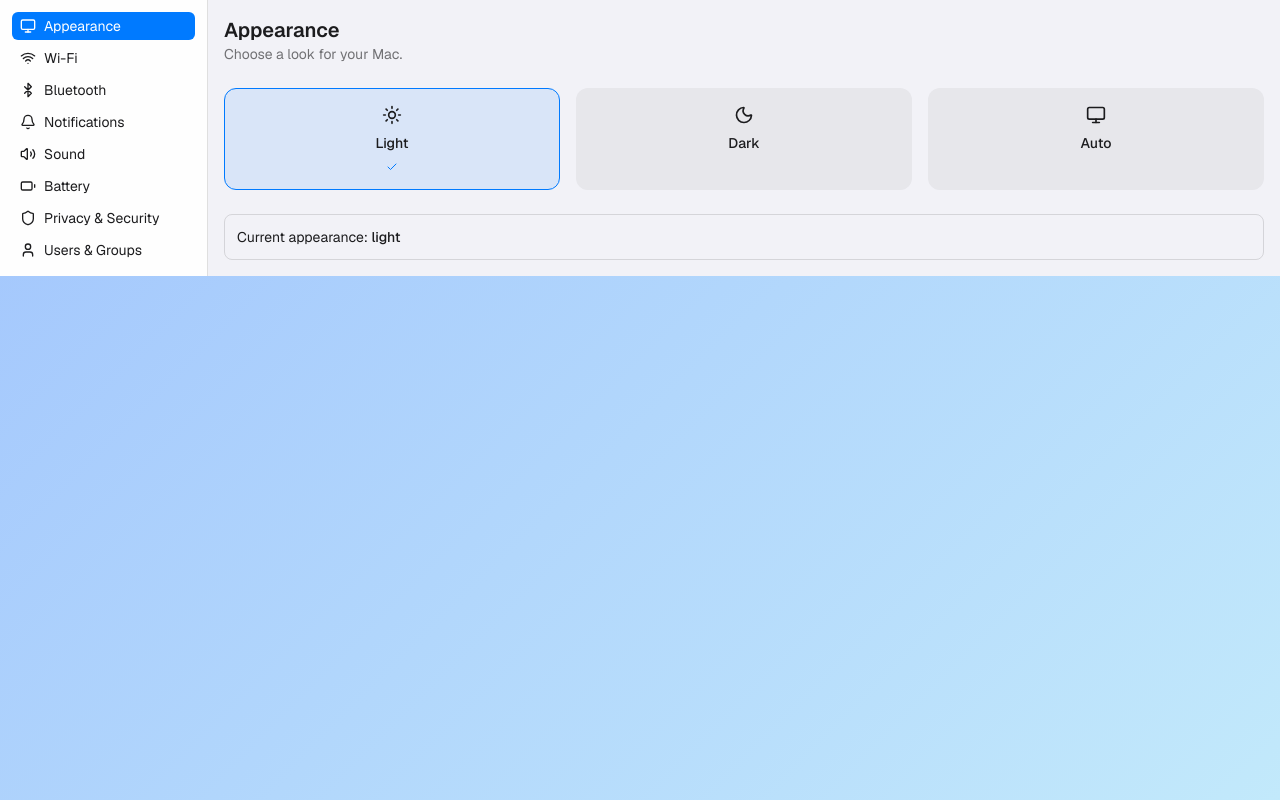
Scenario: Settings › toggles Wi-Fi and shows the network list
The image size is (1280, 800).
Click the button with test id "settings-pane-wifi": (104, 58) [12,44,195,72]
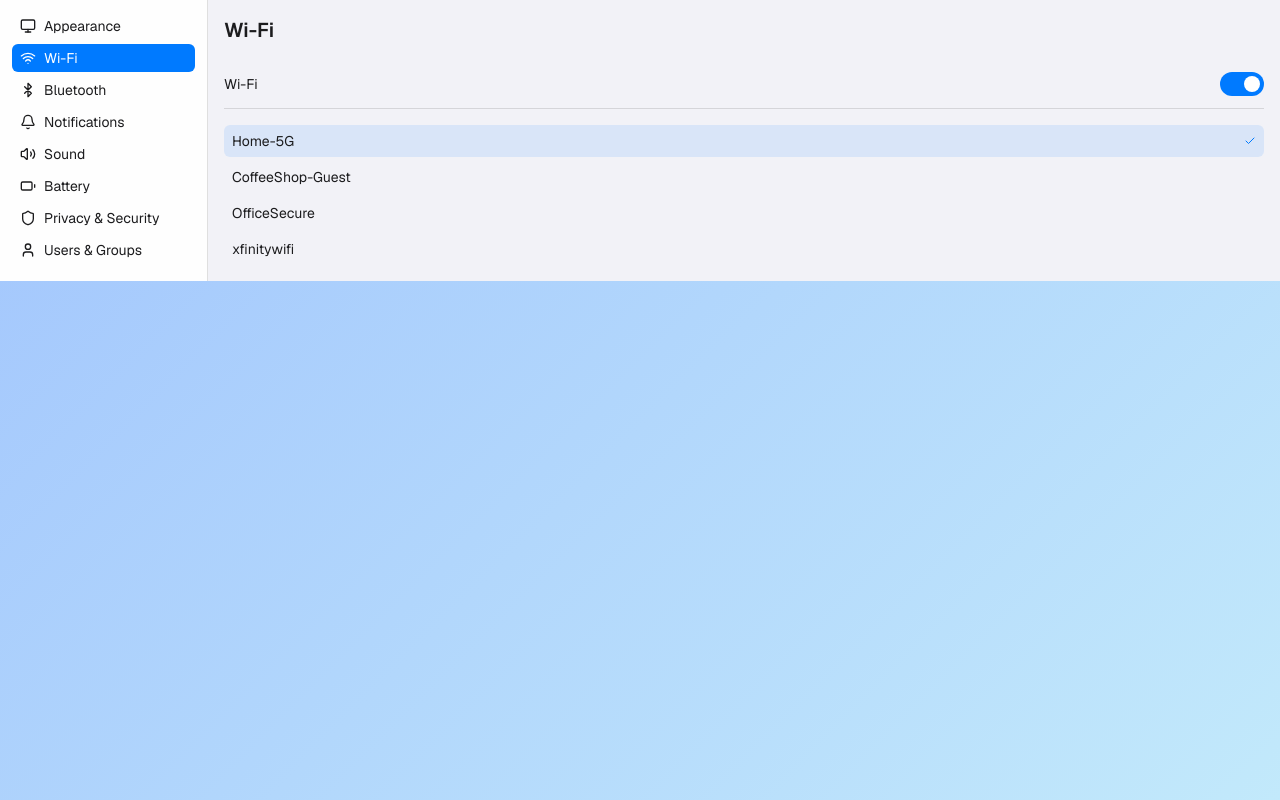
Result: the button with test id "settings-wifi-Home-5G" is shown at [224,125,1264,157]
Click the button with test id "settings-wifi-toggle": (1242, 84) [1220,72,1264,96]
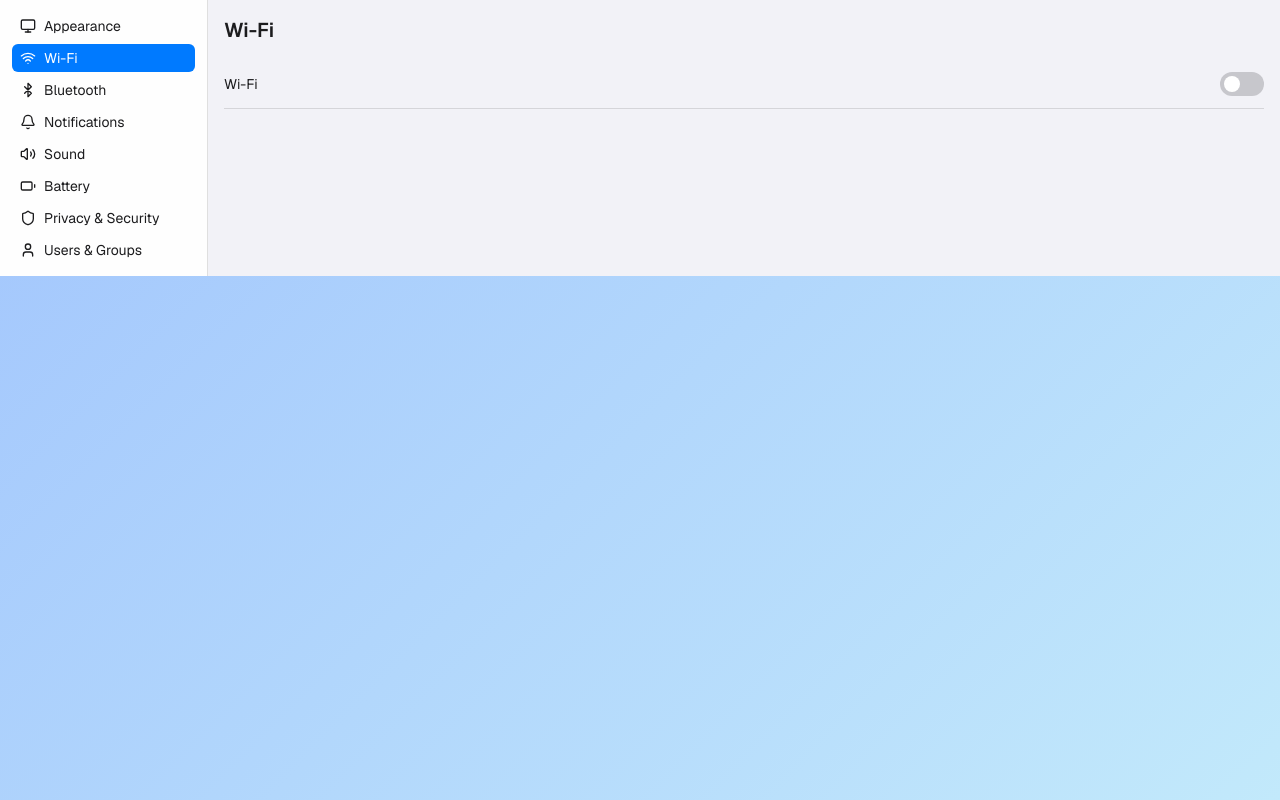
Result: the button with test id "settings-wifi-Home-5G" is gone
